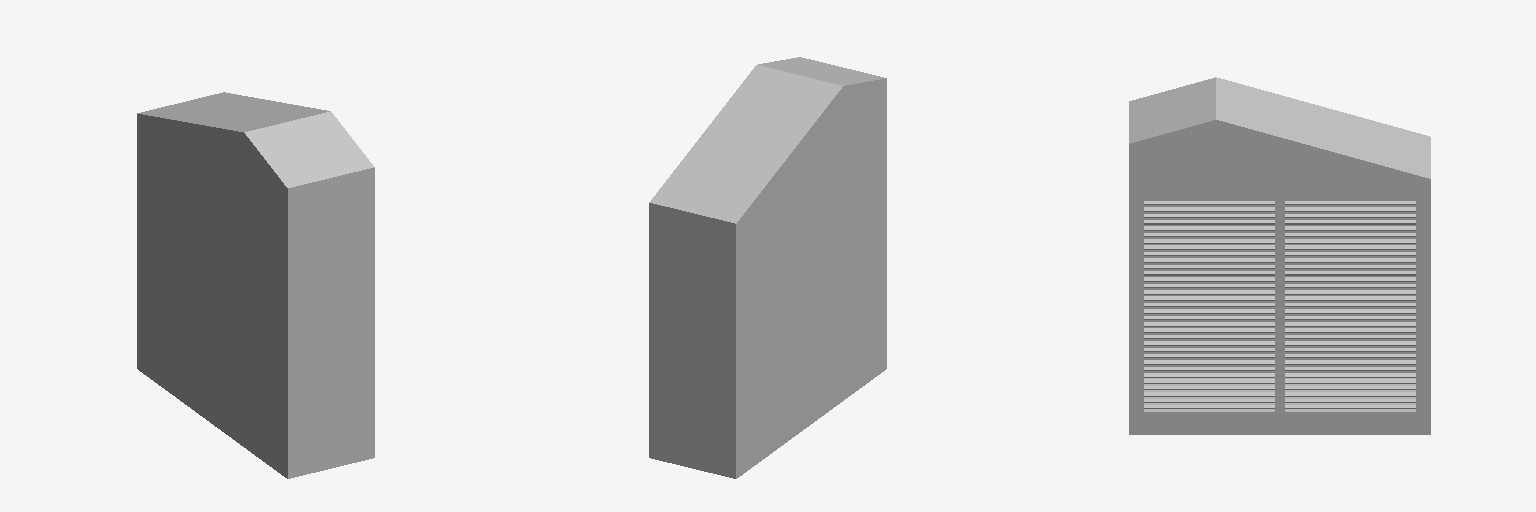
The model's file is 3D_8.9_SIM.obj.
3 renders of one model, left to right at view 1: azimuth 30°, elevation 25°; view 2: azimuth 150°, elevation 25°; view 3: azimuth 270°, elevation 25°, orthographic.
Parts seen in each view (by area): view 1: 3D_8.9_SIM; view 2: 3D_8.9_SIM; view 3: 3D_8.9_SIM.
Boxes of the visible parts, <box> form: 3D_8.9_SIM: <box>137,92,374,478</box>; 3D_8.9_SIM: <box>649,57,886,478</box>; 3D_8.9_SIM: <box>1129,77,1430,434</box>.
Bounding box in the file's own units: 1 × 3.46 × 3.